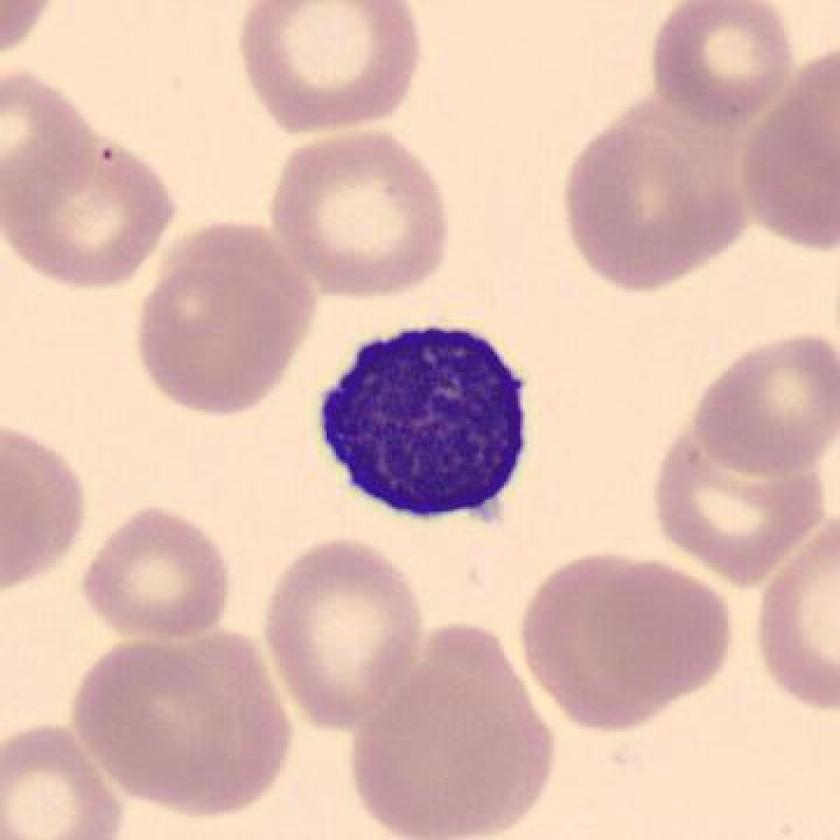lymphocyte: (300, 309, 542, 538)
